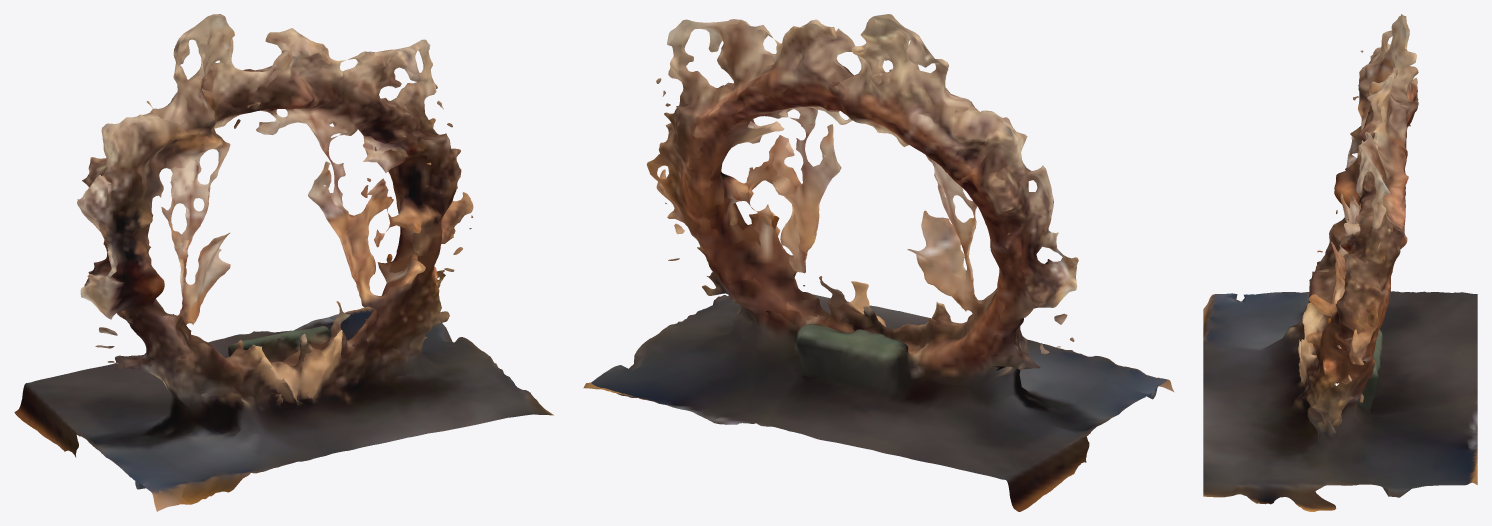
The model's file is portal_MiniLMS.glb.
3 views of the same model, side by side, from view 1: azimuth 30°, elevation 25°; view 2: azimuth 150°, elevation 25°; view 3: azimuth 270°, elevation 25° (orthographic). The views are drawn at different scales.
Visible parts, largest first — view 1: Object_2; view 2: Object_2; view 3: Object_2.
Part boxes in pixels (box(x1,y1,x2,y2)): Object_2: box(14, 14, 553, 511); Object_2: box(583, 14, 1174, 511); Object_2: box(1203, 14, 1477, 511).
Size of the model in its own units: 0.3218 by 0.3088 by 0.1998.
1 material, 1 textured.
